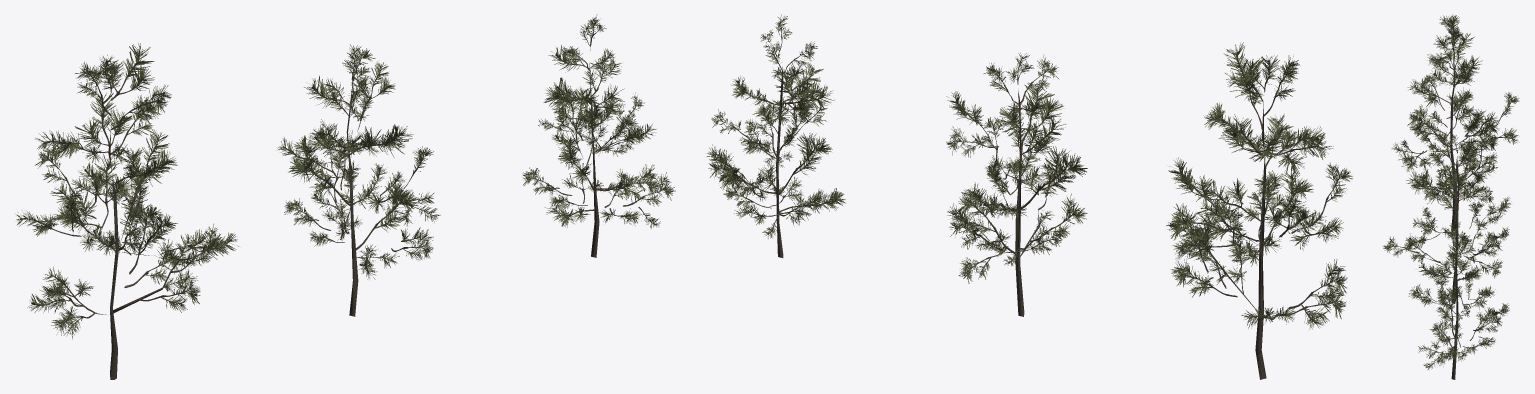
The model's file is conifer.glb.
The picture shows the model from 3 angles, left to right: view 1: azimuth 30°, elevation 25°; view 2: azimuth 150°, elevation 25°; view 3: azimuth 270°, elevation 25°; orthographic projection. The views are drawn at different scales.
Visible parts, largest first — view 1: pine_sapling_small_b; view 2: pine_sapling_small_b; view 3: pine_sapling_small_b.
Boxes of the visible parts, box(x1,y1,x2,y2) form: pine_sapling_small_b: box(16, 14, 675, 379); pine_sapling_small_b: box(706, 15, 1352, 379); pine_sapling_small_b: box(1383, 14, 1519, 379).
Size of the model in its own units: 2.64 by 1.3 by 0.7703.
Materials: 2 (2 with a texture image).
